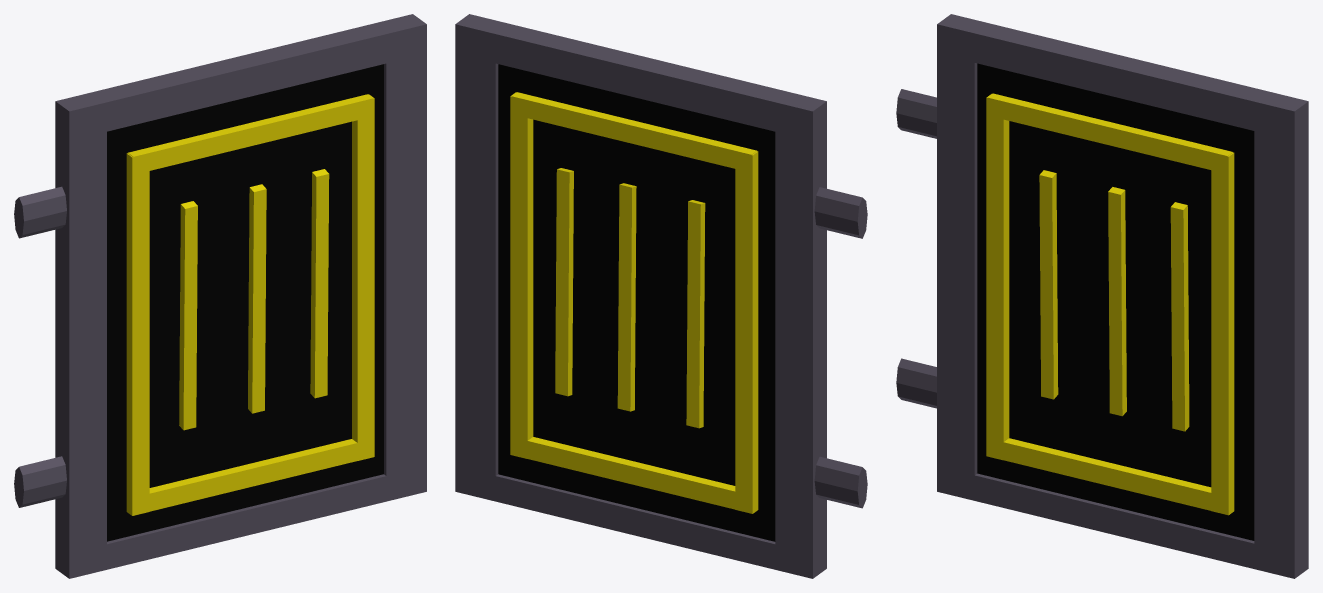
File: Neon_Lines_large.fbx
The picture shows the model from 3 angles, left to right: view 1: azimuth 30°, elevation 25°; view 2: azimuth 150°, elevation 25°; view 3: azimuth 330°, elevation 25°; orthographic projection.
Parts seen in each view (by area): view 1: NeonSign_Large6, Neon_Lines_large; view 2: NeonSign_Large6, Neon_Lines_large; view 3: NeonSign_Large6, Neon_Lines_large.
Part boxes in pixels (<box>): NeonSign_Large6: <box>14,14,426,578</box>; Neon_Lines_large: <box>126,94,374,515</box>; NeonSign_Large6: <box>455,14,867,578</box>; Neon_Lines_large: <box>510,92,758,513</box>; NeonSign_Large6: <box>896,14,1308,578</box>; Neon_Lines_large: <box>986,93,1234,515</box>.
Bounding box in the file's own units: 3.31 × 3.69 × 0.3654.
